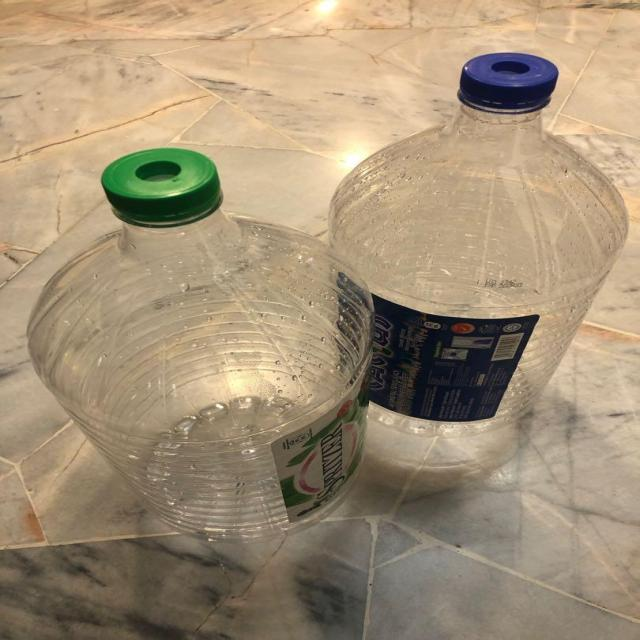plastic: (33, 153, 376, 545), (332, 52, 627, 471)
